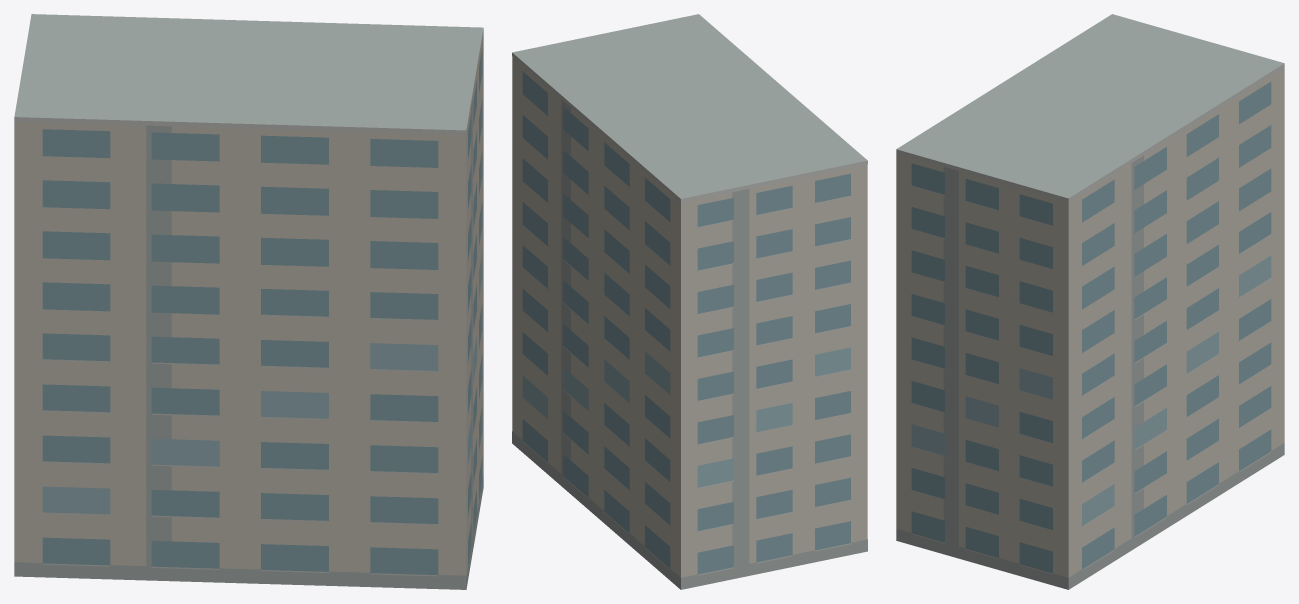
Rendered from residential-801ed72d-6d7f-461f-a02e-7e9a4a32f7e0.glb.
3 renders of one model, left to right at view 1: azimuth 30°, elevation 25°; view 2: azimuth 150°, elevation 25°; view 3: azimuth 270°, elevation 25°, orthographic. The views are drawn at different scales.
Visible parts, largest first — view 1: residential-801ed72d-6d7f-461f-a02e-7e9a4a32f7e0.tmp; view 2: residential-801ed72d-6d7f-461f-a02e-7e9a4a32f7e0.tmp; view 3: residential-801ed72d-6d7f-461f-a02e-7e9a4a32f7e0.tmp.
Boxes of the visible parts, x1=… form: residential-801ed72d-6d7f-461f-a02e-7e9a4a32f7e0.tmp: x1=14, y1=14, x2=483, y2=589; residential-801ed72d-6d7f-461f-a02e-7e9a4a32f7e0.tmp: x1=512, y1=14, x2=867, y2=589; residential-801ed72d-6d7f-461f-a02e-7e9a4a32f7e0.tmp: x1=896, y1=14, x2=1284, y2=589.
Size of the model in its own units: 24.26 by 24 by 21.59.
